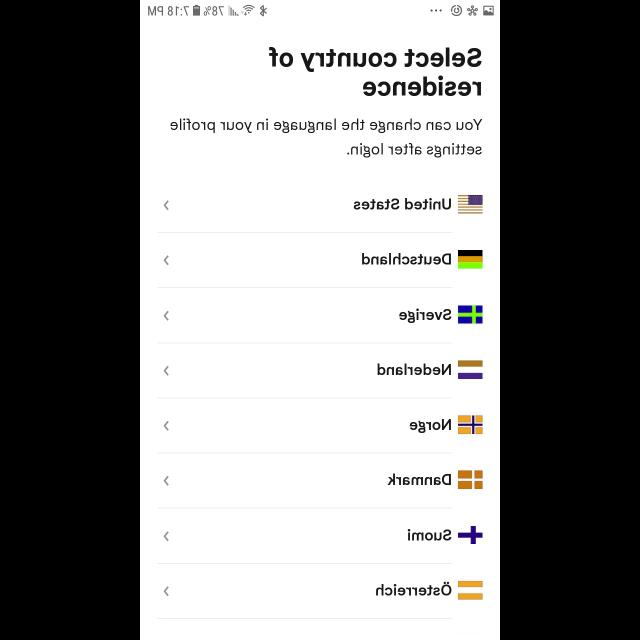icon: (163, 200, 169, 210), (163, 311, 169, 321), (163, 366, 169, 376), (163, 421, 169, 431), (163, 586, 169, 596), (164, 255, 168, 265), (164, 476, 168, 486), (164, 531, 168, 541)
image: (458, 250, 482, 270), (458, 360, 482, 380), (458, 470, 482, 490), (458, 580, 482, 600), (458, 194, 482, 213), (458, 306, 482, 324), (458, 416, 482, 434), (458, 526, 482, 544)
text: (170, 118, 482, 158), (268, 47, 482, 97), (353, 198, 451, 210), (362, 253, 451, 265), (376, 582, 452, 596), (377, 363, 451, 375), (398, 308, 452, 324), (387, 473, 451, 485), (409, 419, 451, 433), (407, 529, 451, 541)
uppertaskbar: (140, 1, 500, 17)
